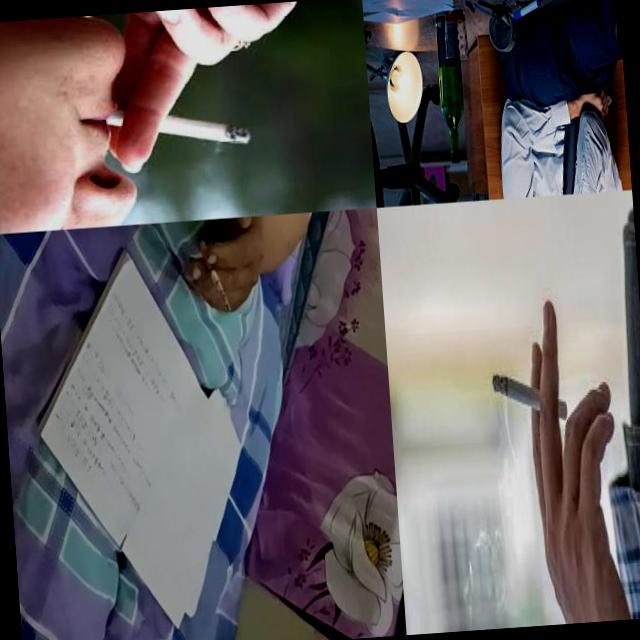cigarette: (90, 95, 252, 154), (491, 366, 568, 424), (197, 238, 230, 316)
